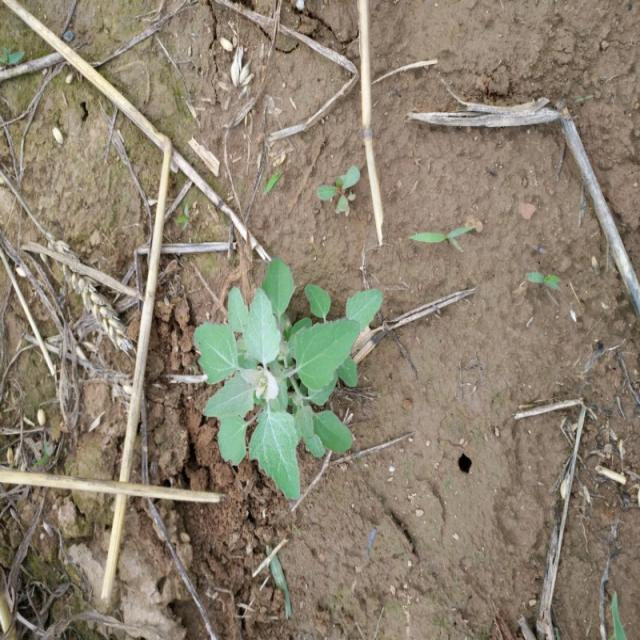goosefoots: (184, 232, 363, 502)
